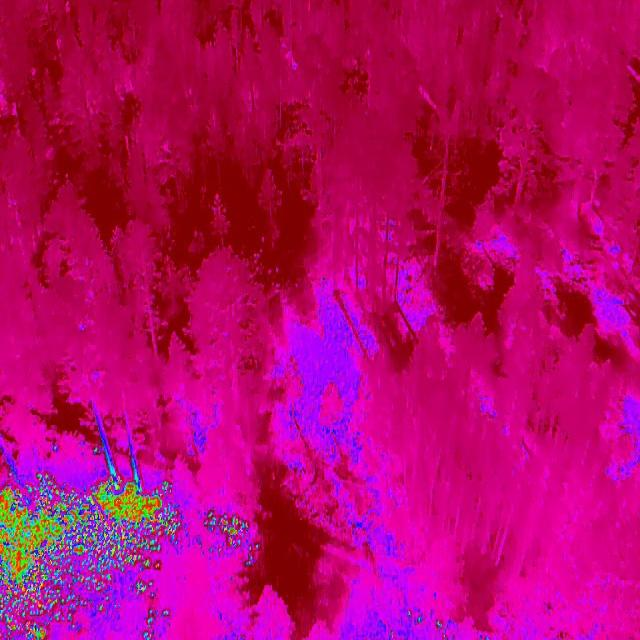fire: (0, 470, 184, 640), (200, 502, 272, 582)
